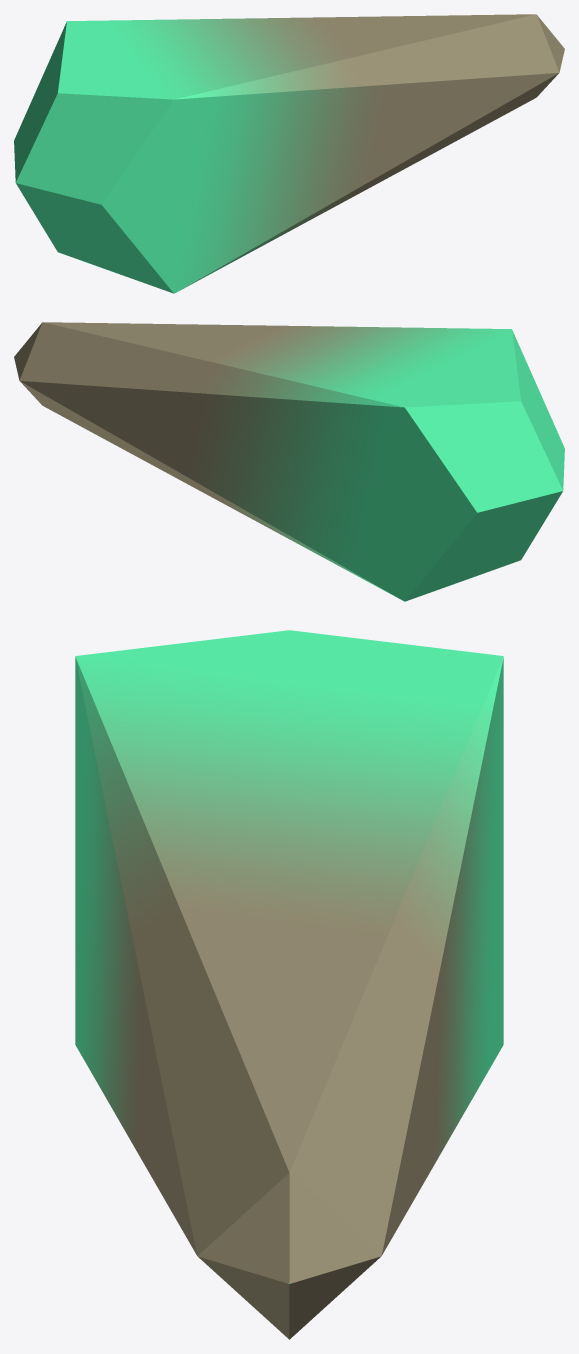
The model's file is windStone.obj.
The picture shows the model from 3 angles, top to bottom: view 1: azimuth 30°, elevation 25°; view 2: azimuth 150°, elevation 25°; view 3: azimuth 270°, elevation 25°; orthographic projection. The views are drawn at different scales.
Parts seen in each view (by area): view 1: Circle; view 2: Circle; view 3: Circle.
Boxes of the visible parts, bbox=[...] form: Circle: bbox=[14, 14, 564, 293]; Circle: bbox=[14, 322, 564, 601]; Circle: bbox=[75, 630, 503, 1339].
Bounding box in the file's own units: 1.87 × 0.6328 × 0.6328.
Materials: 1 (1 with a texture image).
